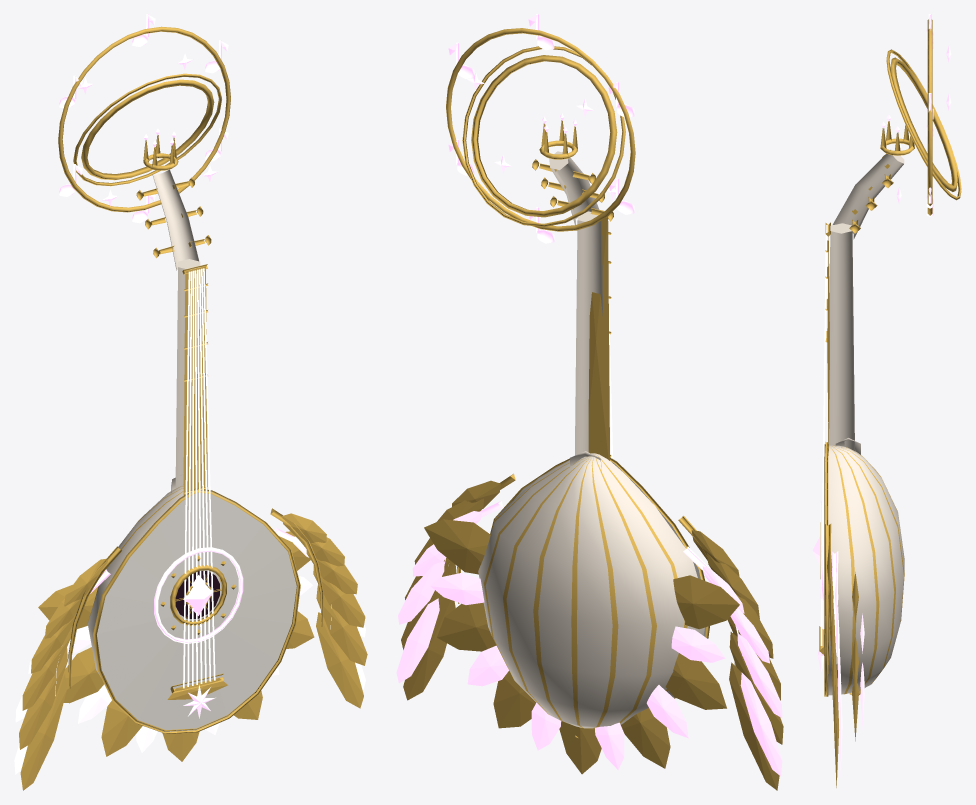
The model's file is bard_lute.glb.
3 views of the same model, side by side, from view 1: azimuth 30°, elevation 25°; view 2: azimuth 150°, elevation 25°; view 3: azimuth 270°, elevation 25° (orthographic). The views are drawn at different scales.
Visible parts, largest first — view 1: bard_lute; view 2: bard_lute; view 3: bard_lute.
Part boxes in pixels (x1,y1,x2,y2): bard_lute: [14, 14, 367, 790]; bard_lute: [396, 14, 783, 790]; bard_lute: [812, 14, 961, 787].
Bounding box in the file's own units: 0.4596 × 0.8986 × 0.1697.
